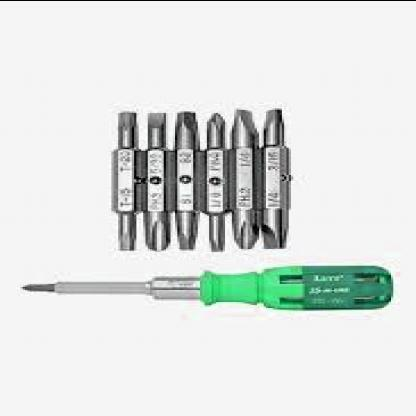Screw Driver: (20, 262, 396, 310)
